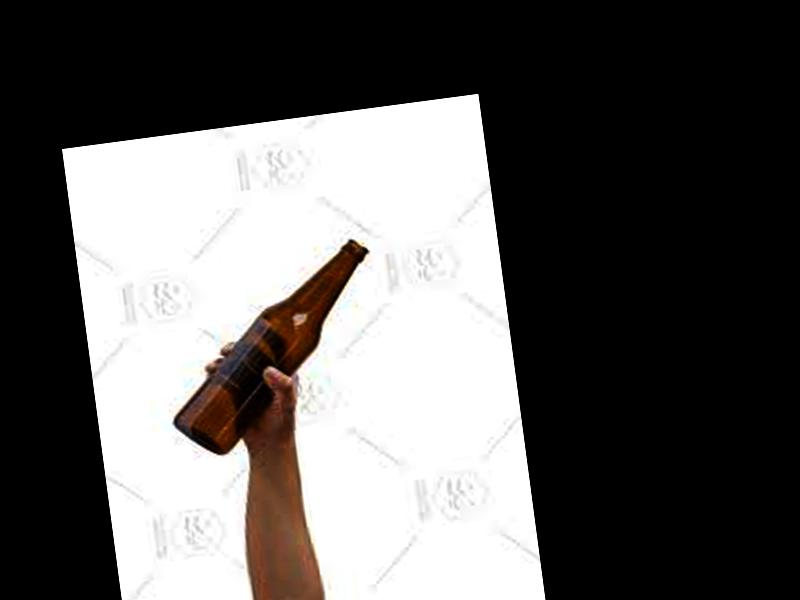Beer: (151, 238, 390, 460)
